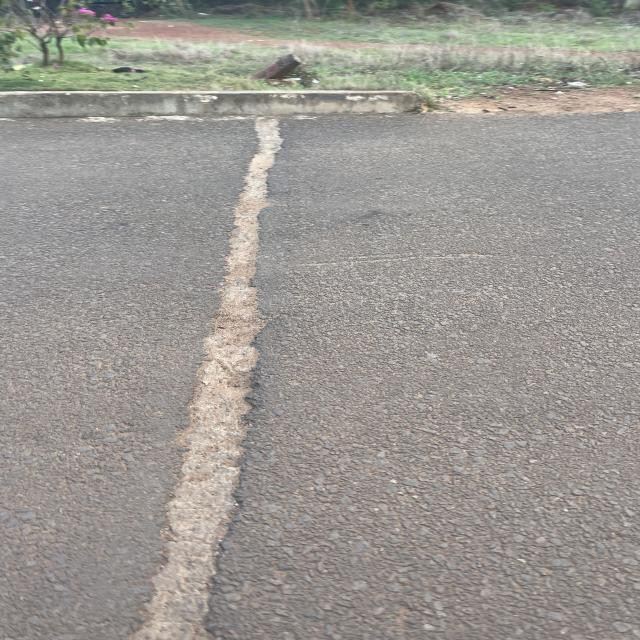D01: (160, 151, 294, 631)
